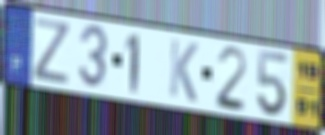1: (124, 32, 139, 94)
2: (215, 44, 249, 114)
3: (75, 22, 110, 92)
5: (255, 47, 290, 120)
K: (167, 37, 200, 106)
Z: (31, 16, 72, 87)
